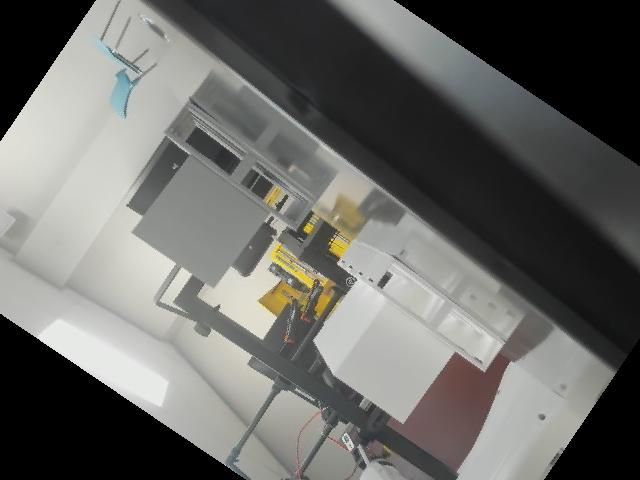grey pallet: (116, 87, 319, 293)
white pallet: (307, 227, 514, 429)
